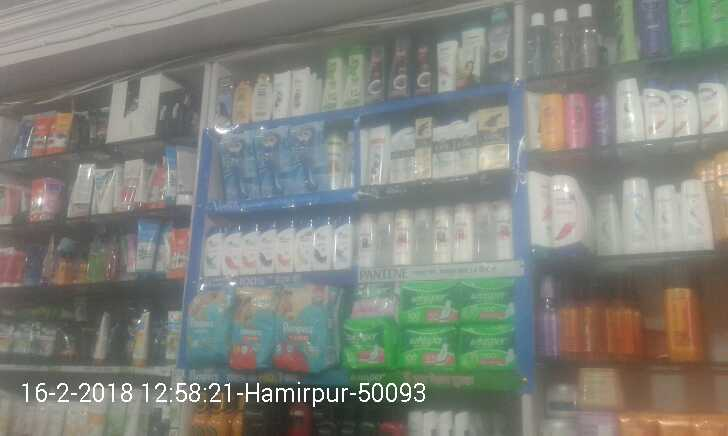venus: (291, 121, 325, 193), (223, 131, 256, 204), (256, 131, 291, 193)
